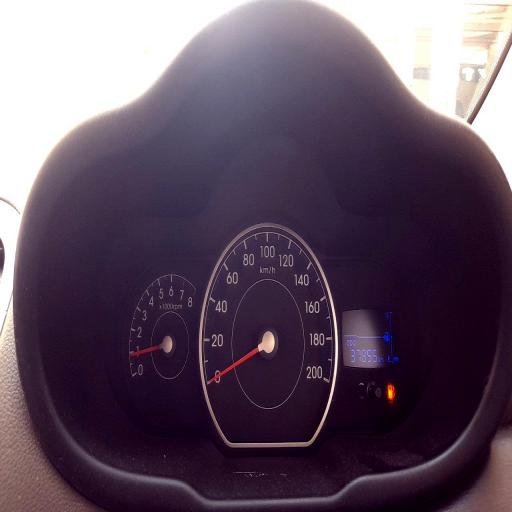tachometer: (128, 272, 200, 390)
